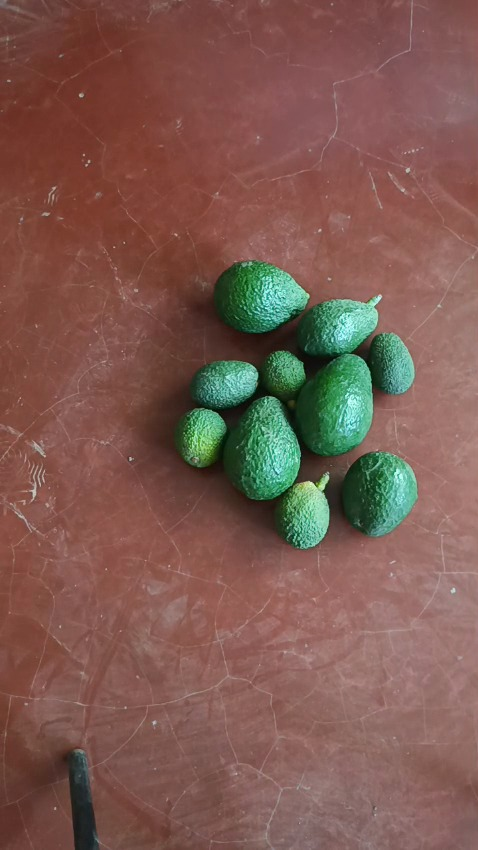Primera: (293, 353, 374, 455), (223, 396, 303, 499), (213, 261, 308, 333)
Segunda: (340, 450, 419, 535), (295, 298, 379, 356)
Tercera: (274, 481, 330, 548), (189, 360, 258, 410), (174, 407, 227, 467), (367, 332, 415, 395), (259, 349, 306, 402)
